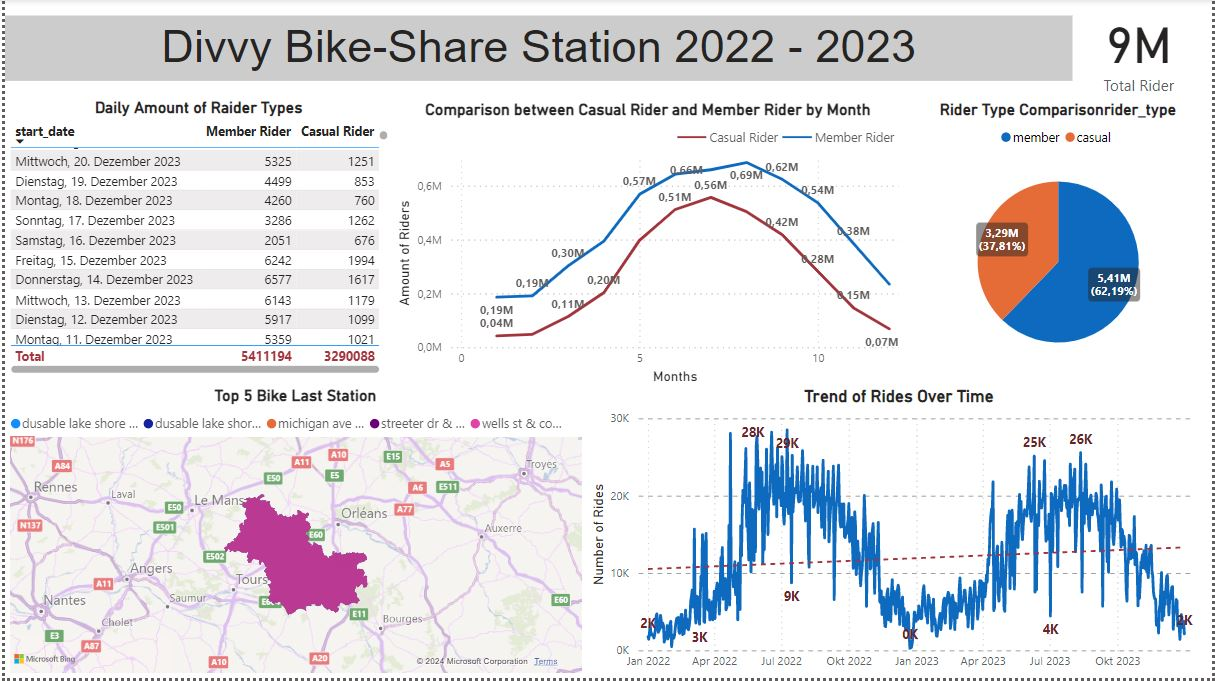

The dashboard page shown, as its layout file describes it:
{"tool":"powerbi","page":{"name":"Page 1","canvas":[1280,720],"ordinal":0},"visuals":[{"type":"lineChart","title":"Trend of Rides Over Time","fields":{"Category":["facts_bikes.start_date"],"Y":["CountNonNull(facts_bikes.ride_id)"]},"box":[615.6,410.4,664.9,310.2],"z":0},{"type":"pieChart","title":"Rider Type Comparison","fields":{"Category":["facts_bikes.rider_type"],"Y":["CountNonNull(facts_bikes.ride_id)"]},"box":[952.8,106.6,327.7,295.9],"z":1000},{"type":"card","fields":{"Values":["facts_bikes.Total Rider Count"]},"box":[1131.8,0,139.1,105.1],"z":2000},{"type":"tableEx","title":"Daily Users of Bike-Share","fields":{"Values":["facts_bikes.start_date","facts_bikes.Member Rider Count","facts_bikes.Casual Rider Count"]},"box":[0,105.2,410.7,297.2],"z":3000},{"type":"lineChart","title":"Monthly Month Users of Bike-Share","fields":{"Y":["facts_bikes.Casual Rider Count","facts_bikes.Member Rider Count"],"Category":["facts_bikes.Month Start"]},"box":[410.7,106.9,542.6,305.5],"z":4000},{"type":"filledMap","title":"Top 5 Bike Last Station","fields":{"Category":["facts_bikes.end_latitude","facts_bikes.end_longitude"],"Series":["facts_bikes.end_station_name"]},"box":[0,410.7,616,308.8],"z":5000},{"type":"textbox","box":[0,17.8,1131.8,69.5],"z":6000}]}

Visuals, with their boxes in screenshot pixels (x1, y1, x2, y2), scaled from the page's 1280x720 canvas onto the 1215x681 screenshot:
"Trend of Rides Over Time" lineChart: 584/388/1214/680
"Rider Type Comparison" pieChart: 904/101/1214/381
card - facts_bikes.Total Rider Count: 1074/0/1206/99
"Daily Users of Bike-Share" tableEx: 0/100/390/381
"Monthly Month Users of Bike-Share" lineChart: 390/101/905/390
"Top 5 Bike Last Station" filledMap: 0/388/585/680
textbox: 0/17/1074/83
